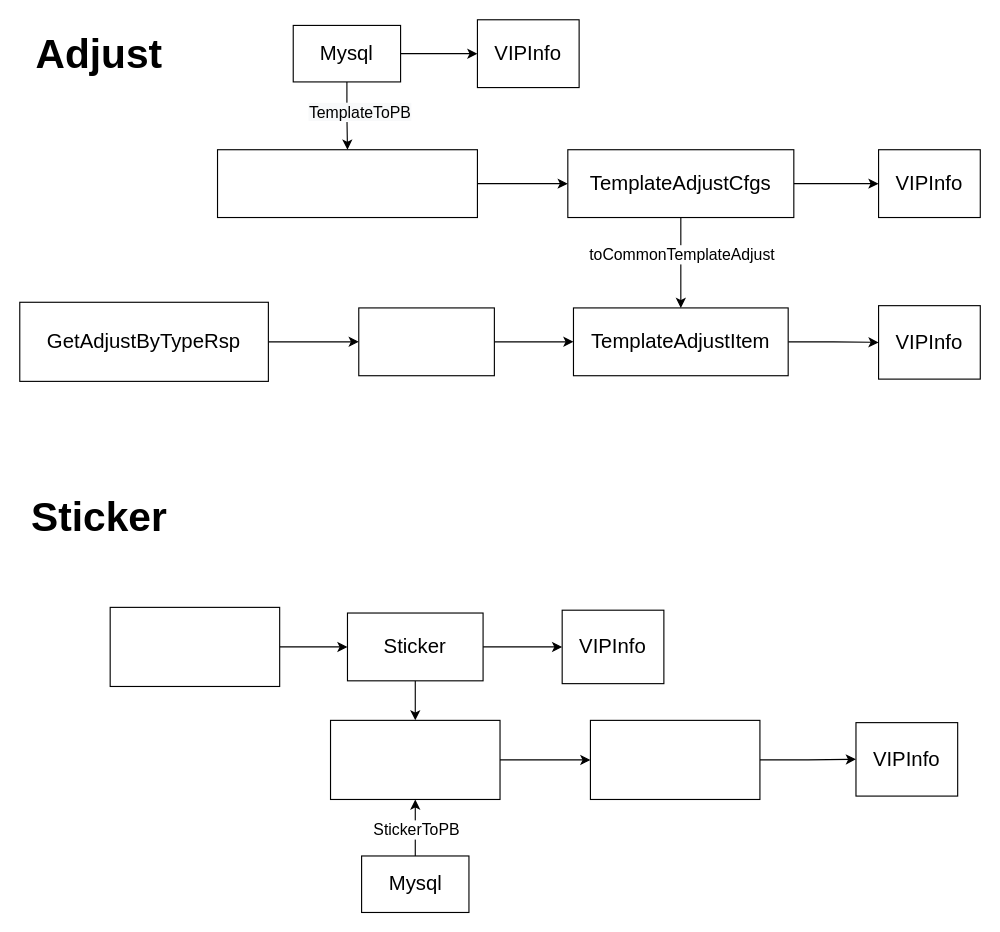
The diagram is 1000 pixels wide and 932 high, and some of its shapes have lost their labels. The centre of each missing label's shape, as x and y in pixels:
"AdjustItem" belongs at pixel 426 341.
"CacheStickers" belongs at pixel 414 759.
"CacheTemplateAdjusts" belongs at pixel 346 183.
"GetStickersRsp" belongs at pixel 194 646.
"StickerCfg" belongs at pixel 674 759.
